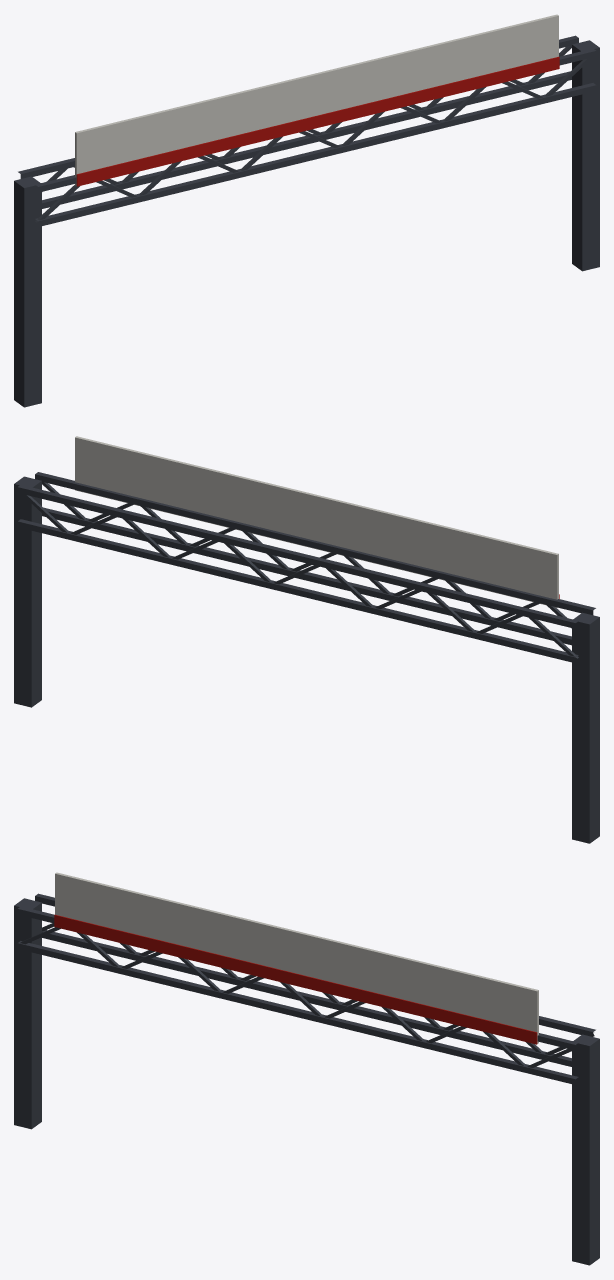
The model's file is sign_bridge.glb.
3 views of the same model, one above another, from view 1: azimuth 30°, elevation 25°; view 2: azimuth 150°, elevation 25°; view 3: azimuth 330°, elevation 25° (orthographic).
Visible parts, largest first — view 1: chunk_0_0; view 2: chunk_0_0; view 3: chunk_0_0.
Part boxes in pixels (bbox=[...]): chunk_0_0: bbox=[14, 14, 599, 407]; chunk_0_0: bbox=[14, 436, 599, 843]; chunk_0_0: bbox=[14, 872, 599, 1265].
Size of the model in its own units: 22.8 by 10.1 by 1.49.
